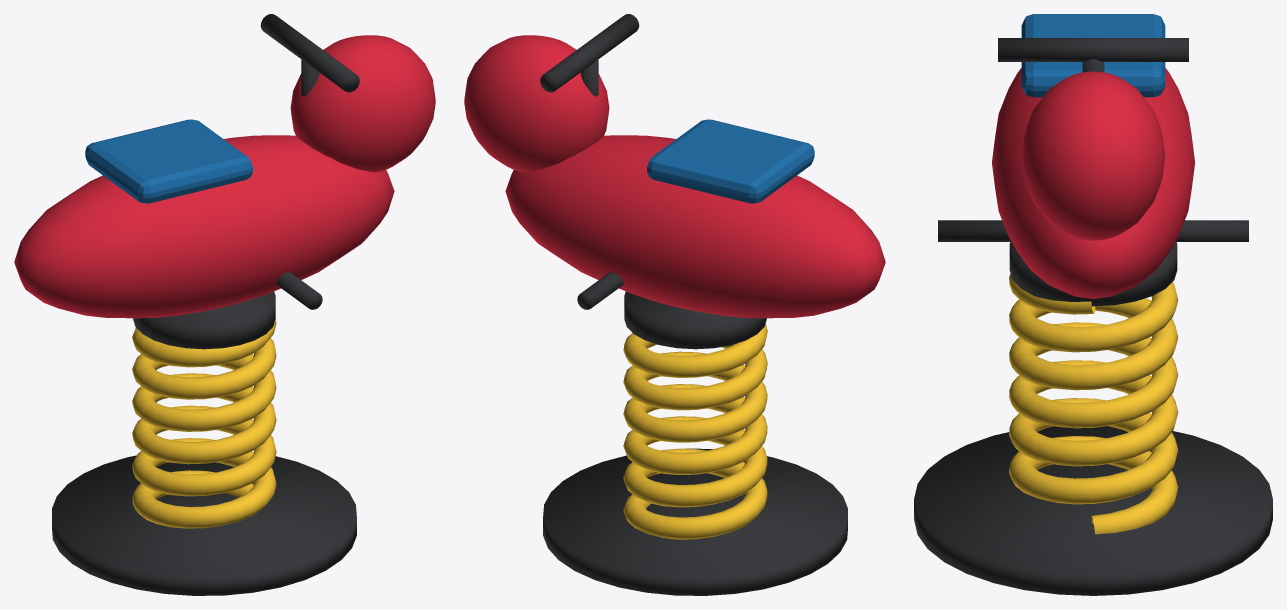
Rendered from playground_spring_rider.glb.
3 renders of one model, left to right at view 1: azimuth 30°, elevation 25°; view 2: azimuth 150°, elevation 25°; view 3: azimuth 270°, elevation 25°, orthographic. The views are drawn at different scales.
Visible parts, largest first — view 1: SpringRider; view 2: SpringRider; view 3: SpringRider.
Boxes of the visible parts, x1=… form: SpringRider: x1=14, y1=14, x2=435, y2=595; SpringRider: x1=464, y1=14, x2=885, y2=595; SpringRider: x1=914, y1=14, x2=1272, y2=595.
Bounding box in the file's own units: 0.93 × 1 × 0.6.
